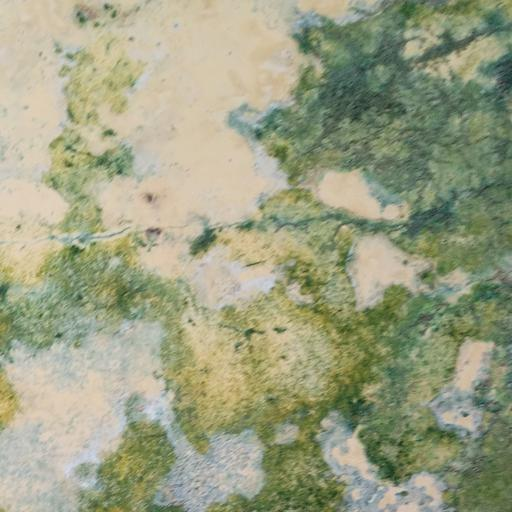algae: (210, 5, 512, 512)
